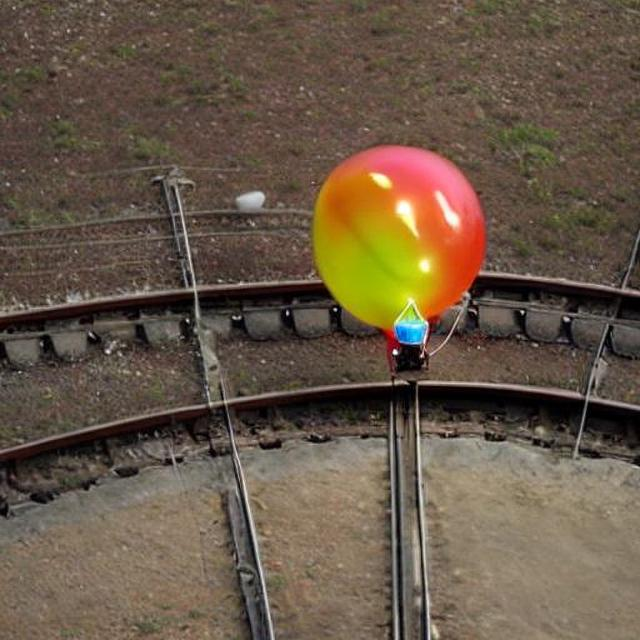balloon: (301, 136, 487, 368)
